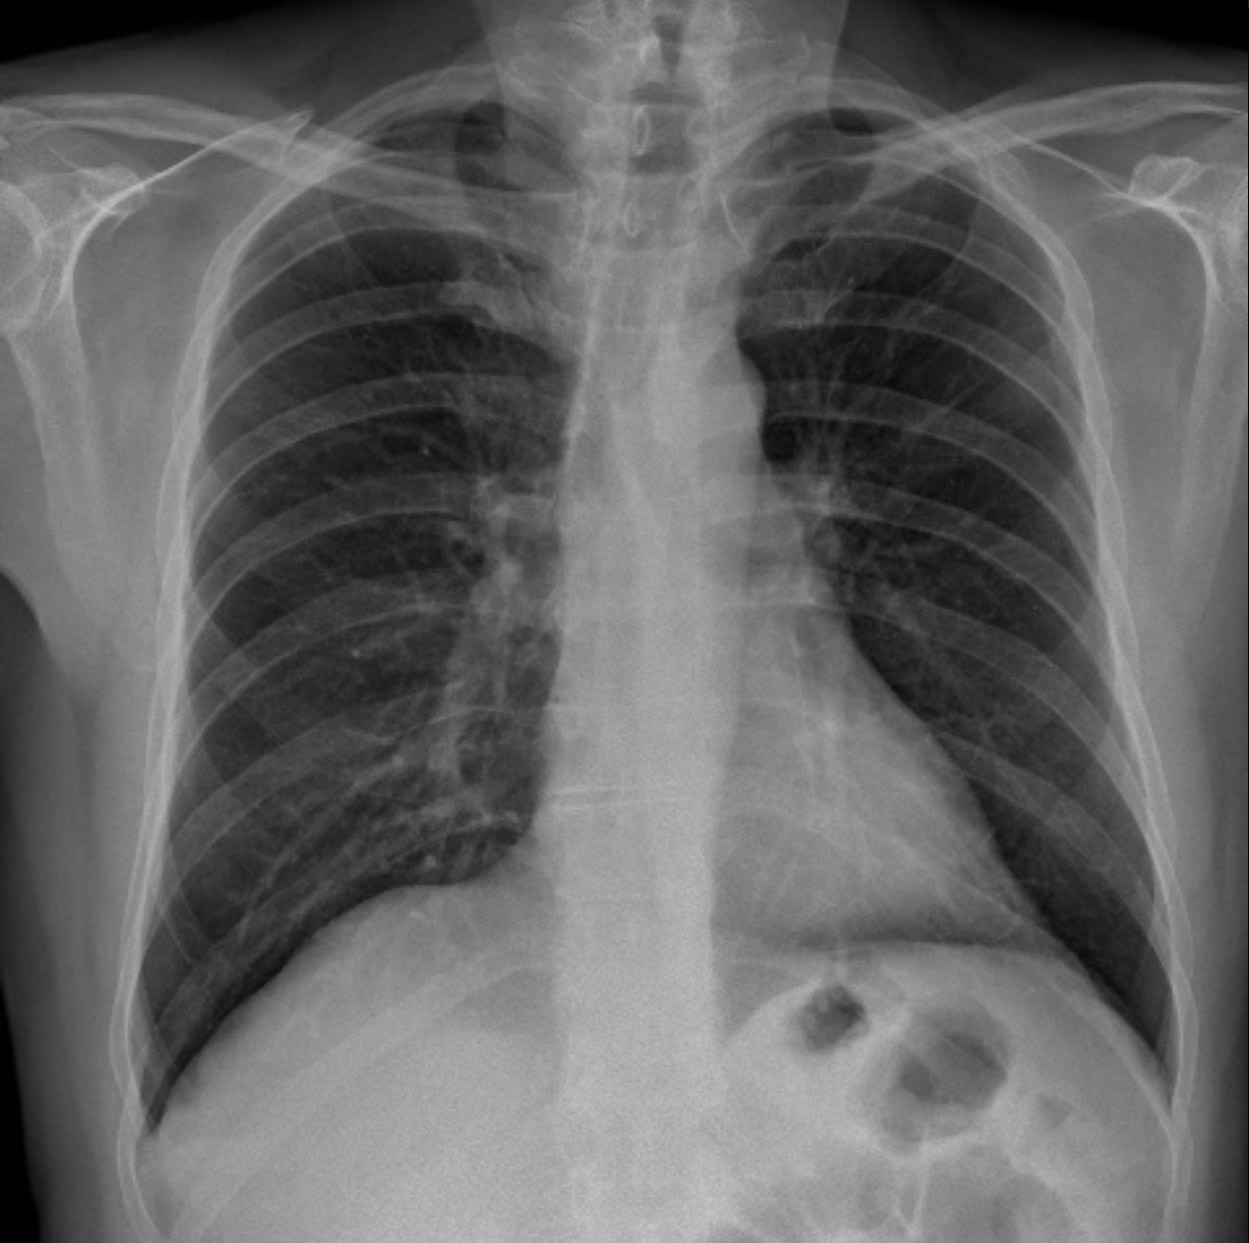Mildw: (142, 99, 567, 1125), (737, 112, 1170, 1071)
